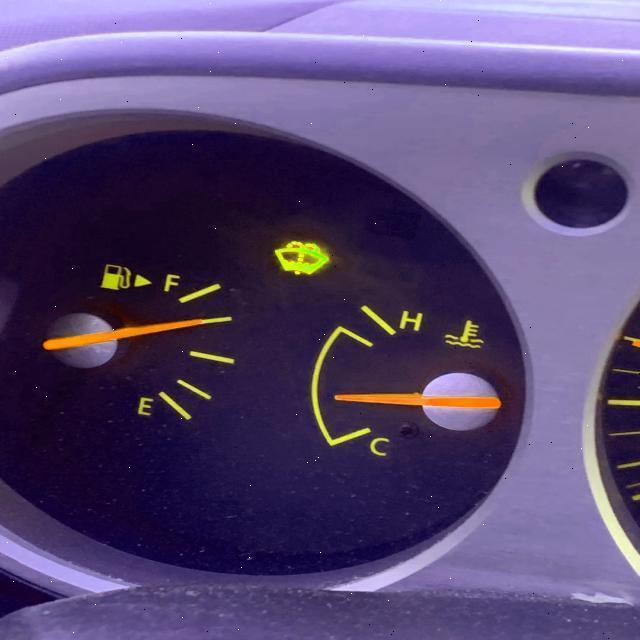Washer Fluid: (269, 239, 335, 280)
